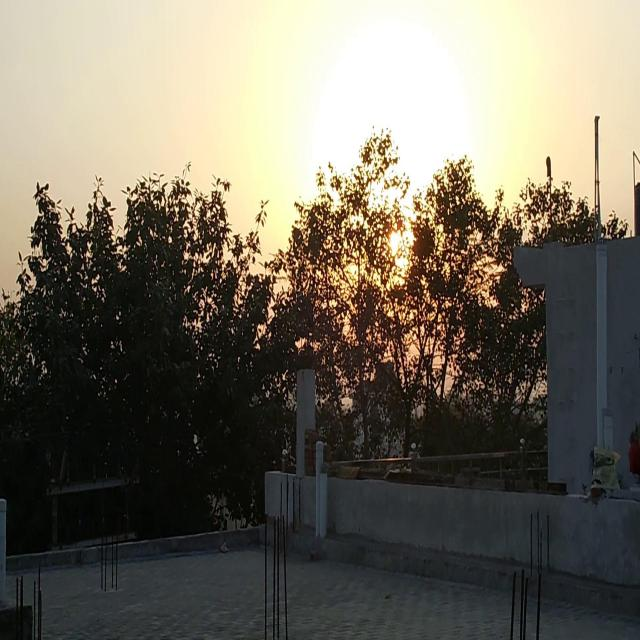other: (303, 58, 478, 296)
